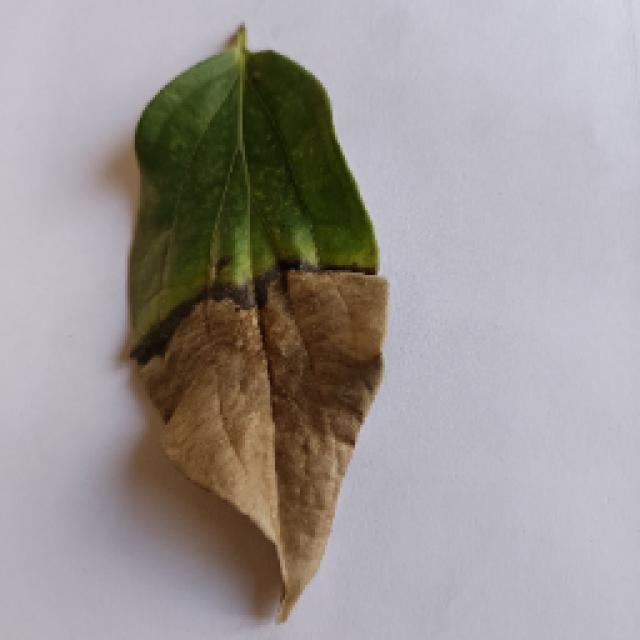footrot: (123, 25, 385, 625)
